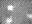person: (24, 13, 31, 18), (7, 6, 12, 12), (5, 19, 12, 23)
